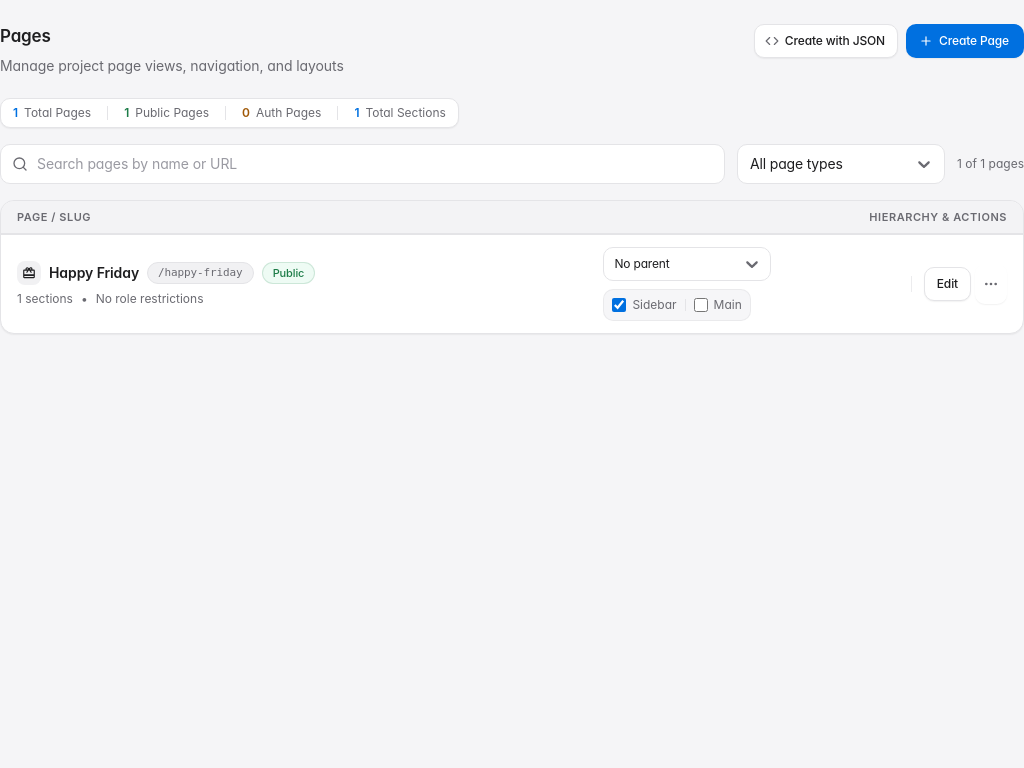
Test: PagesSection designer workspace › warns before leaving a dirty editor and removes the warning after discard
The width and height of the screenshot is (1024, 768).
Click the button "Edit". click: click(947, 284)
box: 924,267 -> 971,301
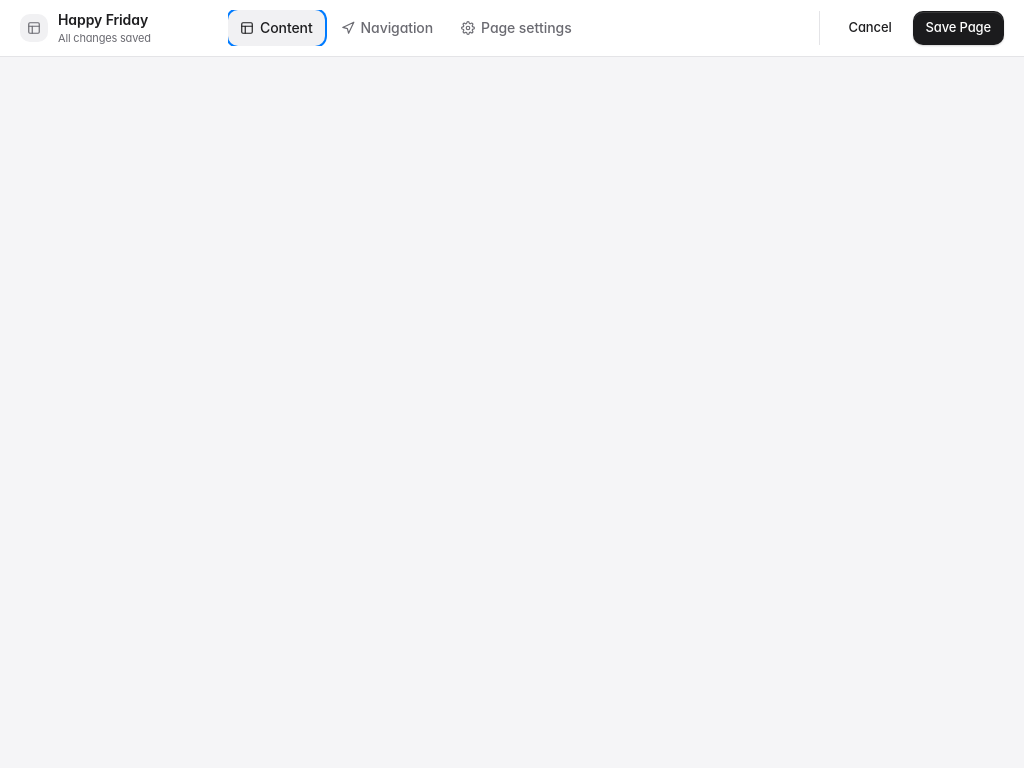
Click the tab "Page settings". click: click(516, 28)
box: 449,10 -> 584,46
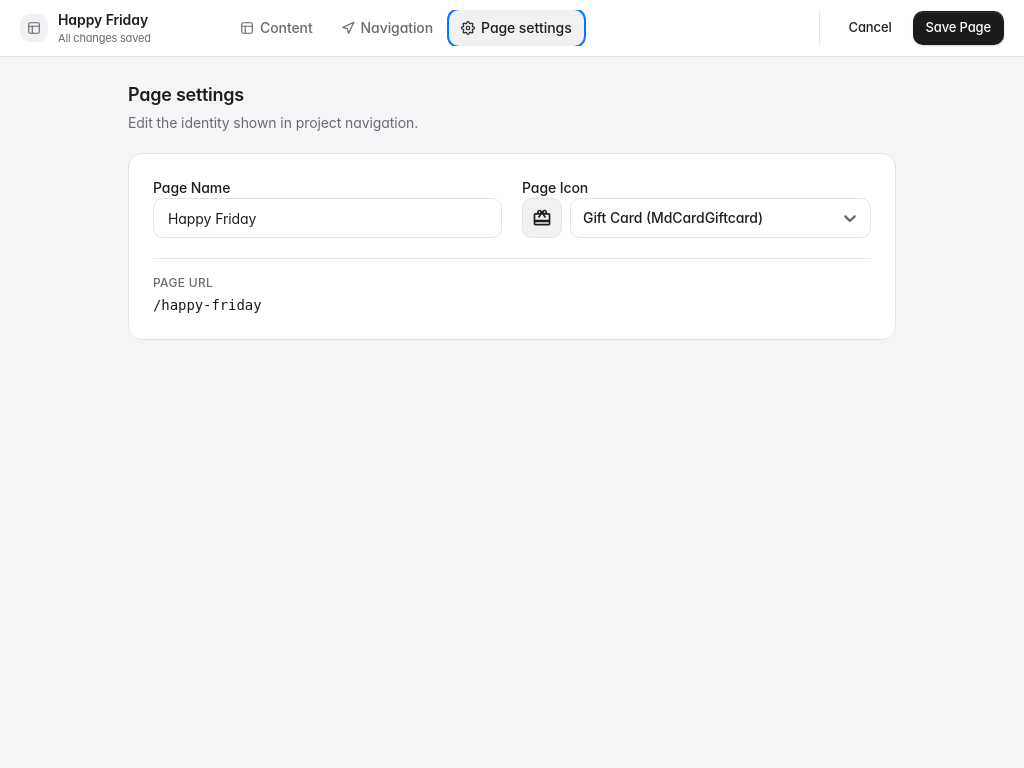
Type " changed" into the field labelled "Page Name". click: (328, 218)
box: 153,198 -> 502,238
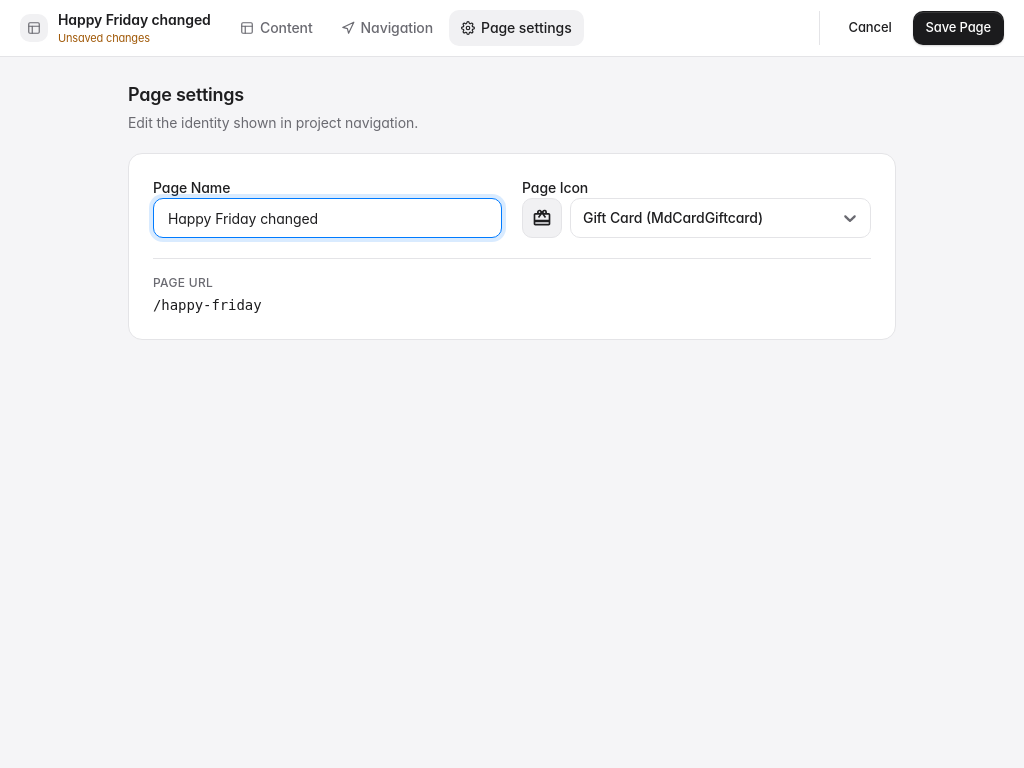
Click the button "Cancel". click: click(870, 28)
box: 836,11 -> 905,45
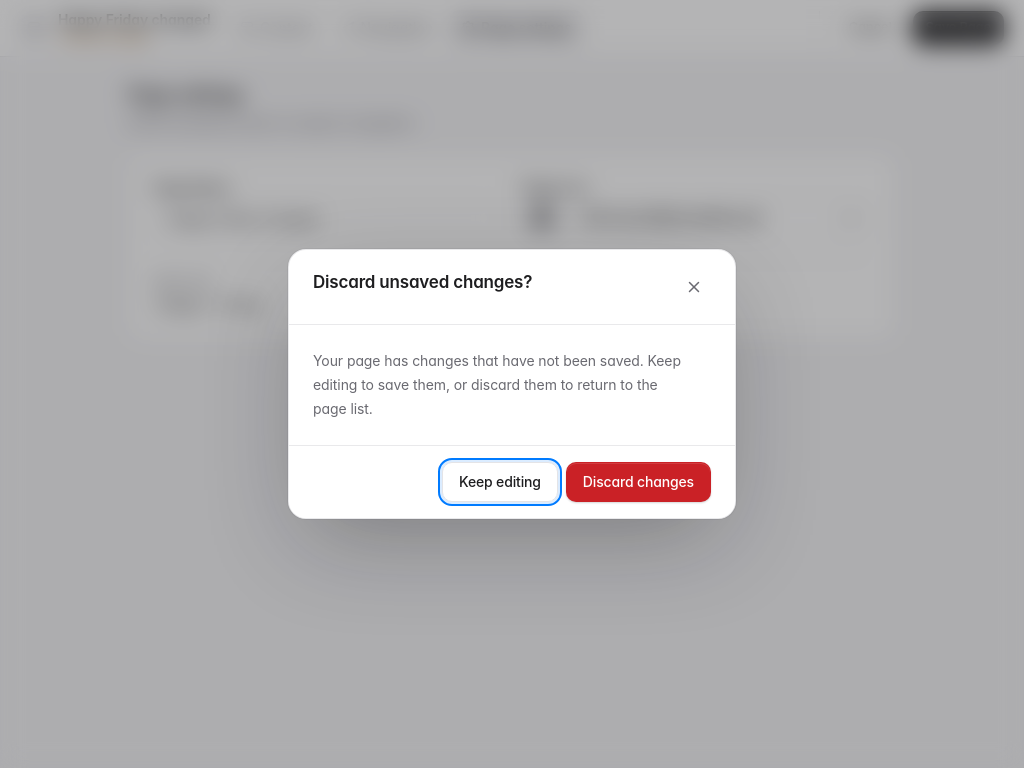
Click the button "Discard changes". click: click(638, 482)
box: 566,462 -> 711,502
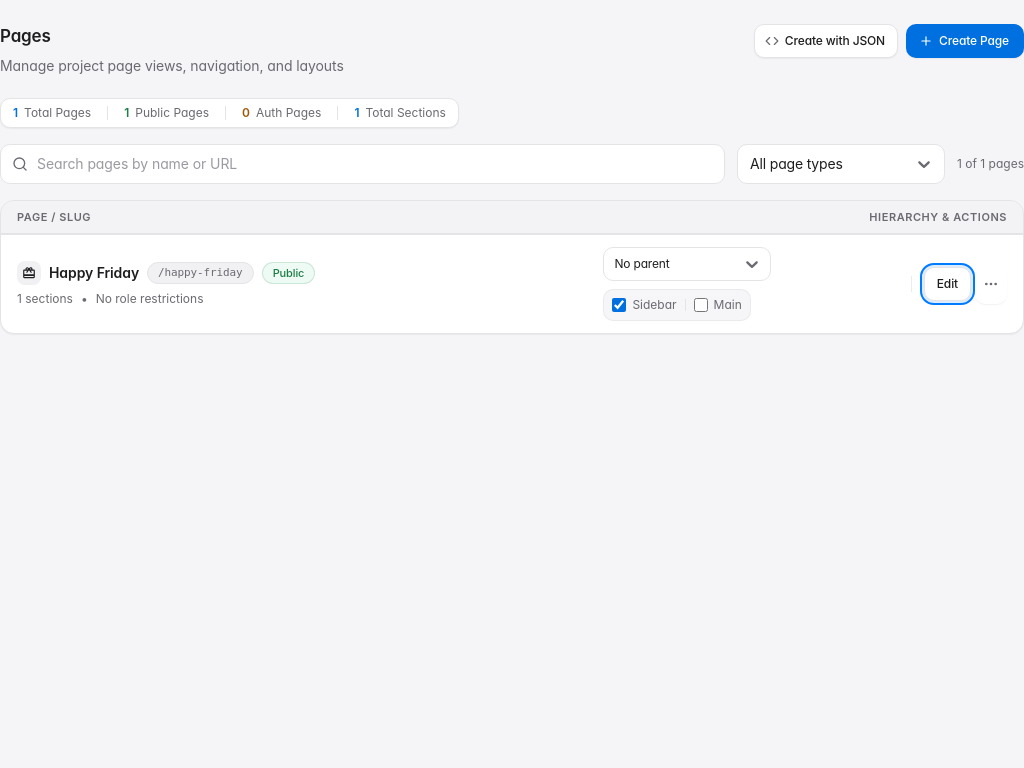
Now the dialog with test id "page-editor-workspace" is gone
